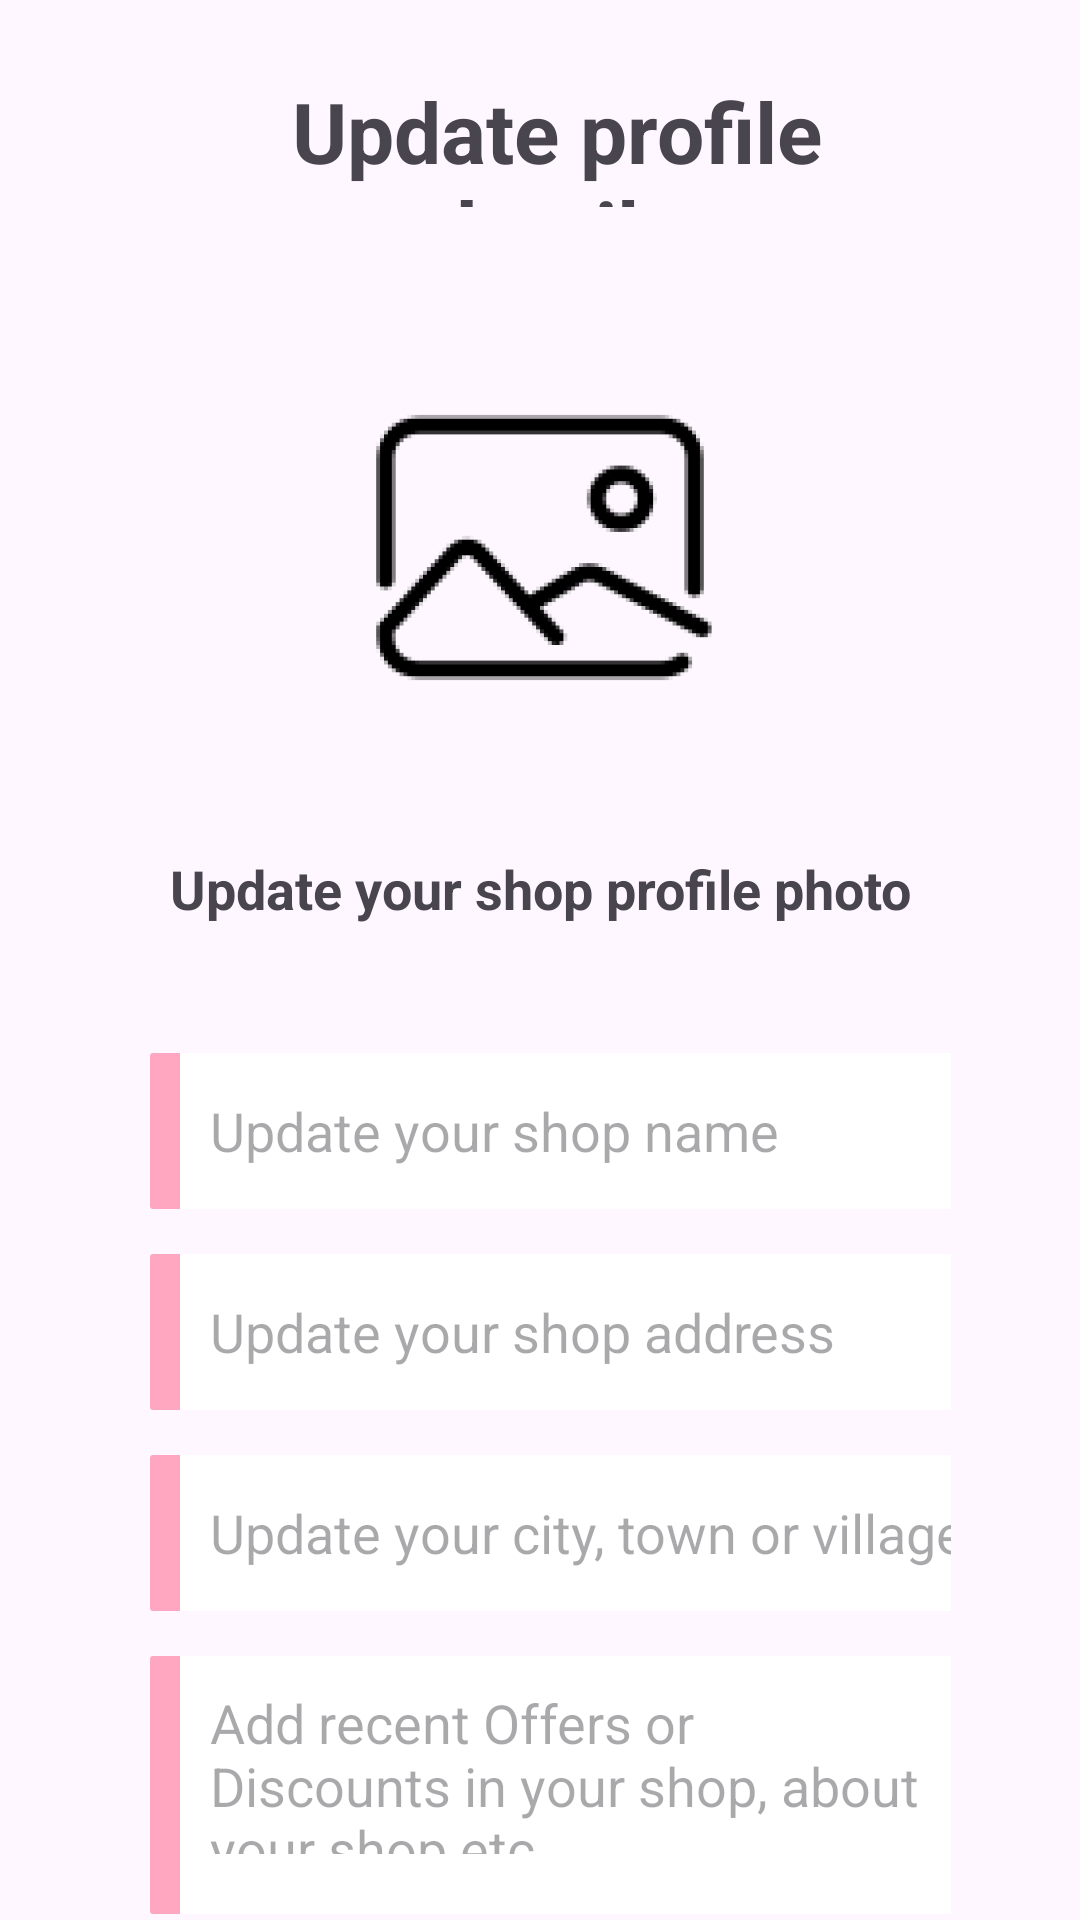

Screen size 1080x1920. Icon name, then its box in pixels as (x1, y1, x2, y2):
profimage: (376, 415, 712, 680)
